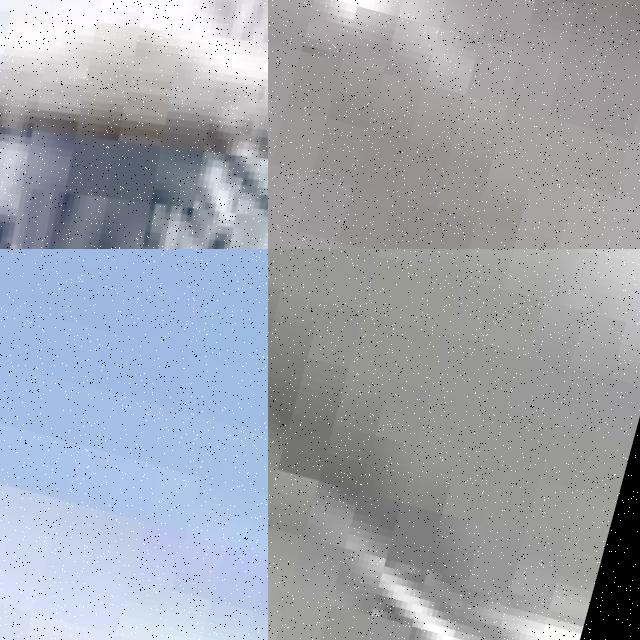drone: (0, 0, 268, 249)
